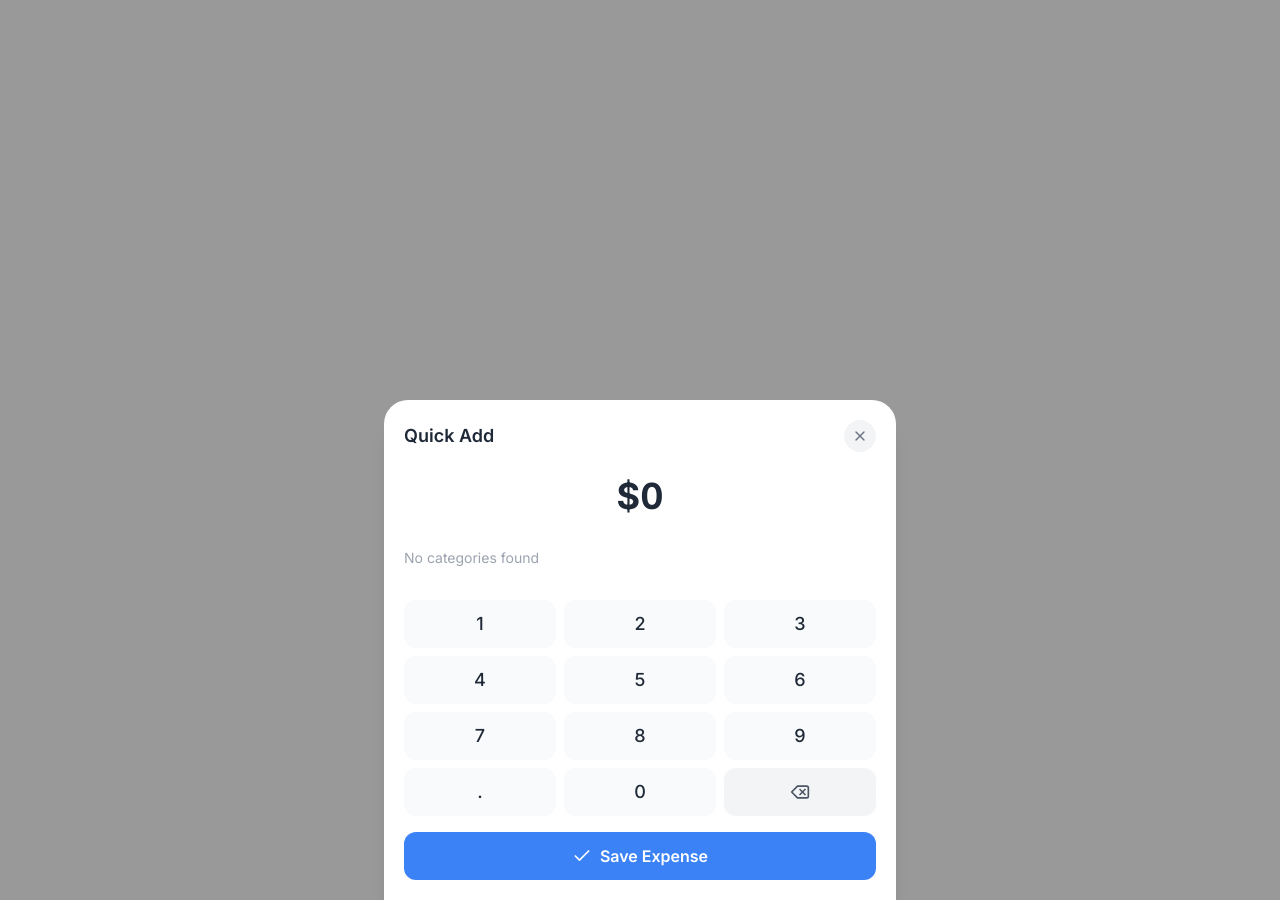
QuickAddModal › handles decimal input correctly
The image size is (1280, 900).
What coordinates should you click on to do the following:
click the button "1"
I would click on:
 (480, 624)
Its box is [404,600,556,648].
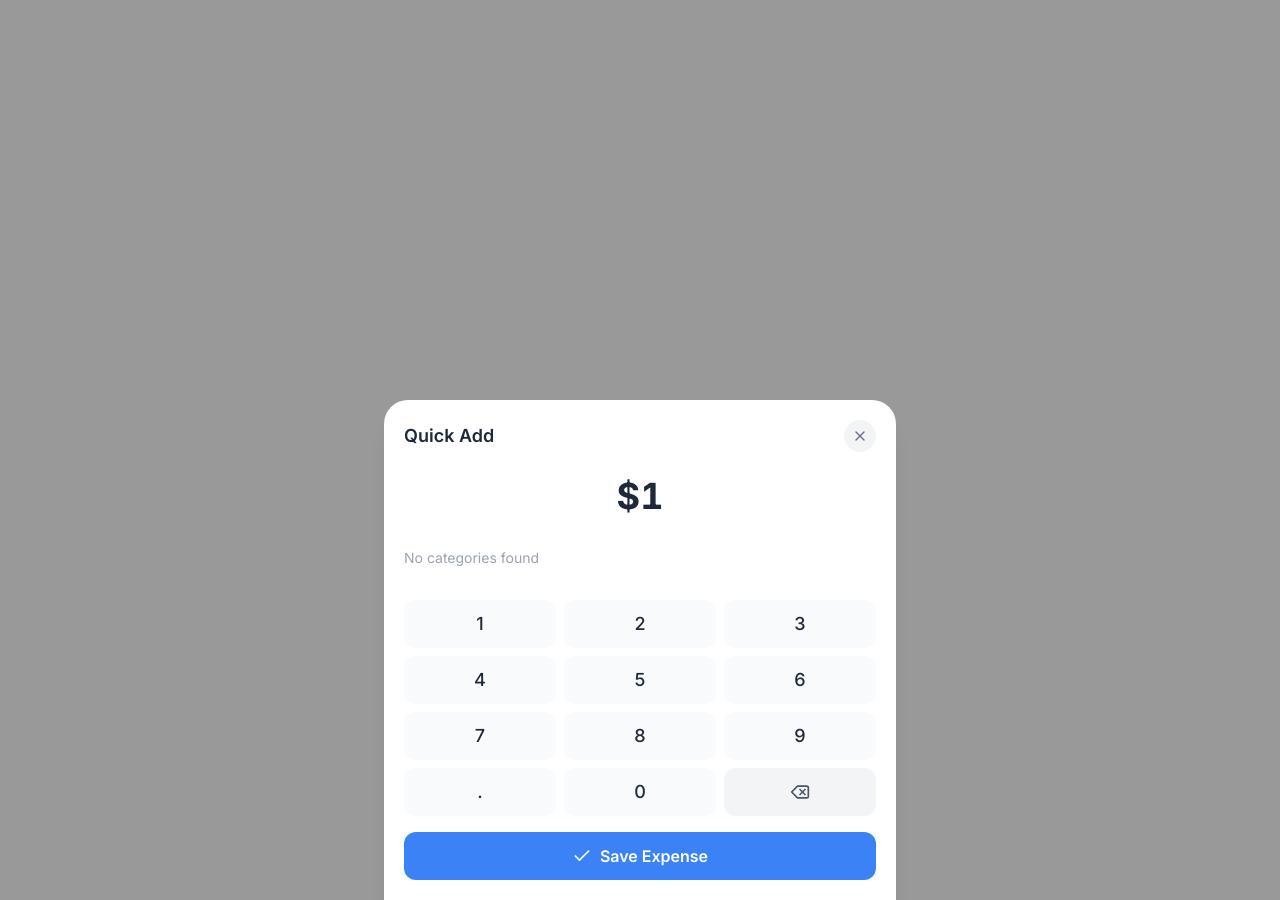
What coordinates should you click on to do the following:
click the button "2"
I would click on:
 (640, 624)
Its box is [564,600,716,648].
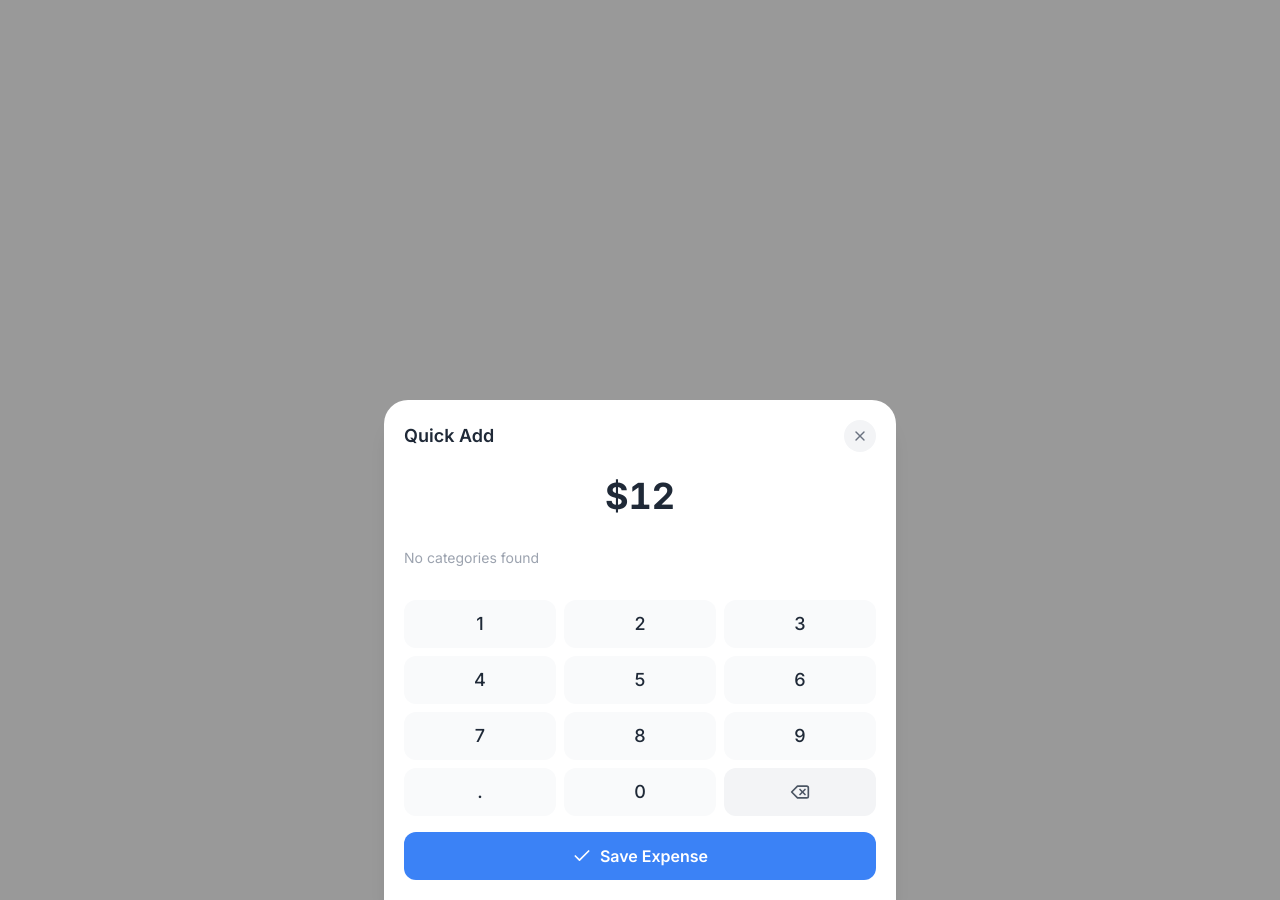
What coordinates should you click on to do the following:
click the button "."
I would click on:
 (480, 792)
Its box is [404,768,556,816].
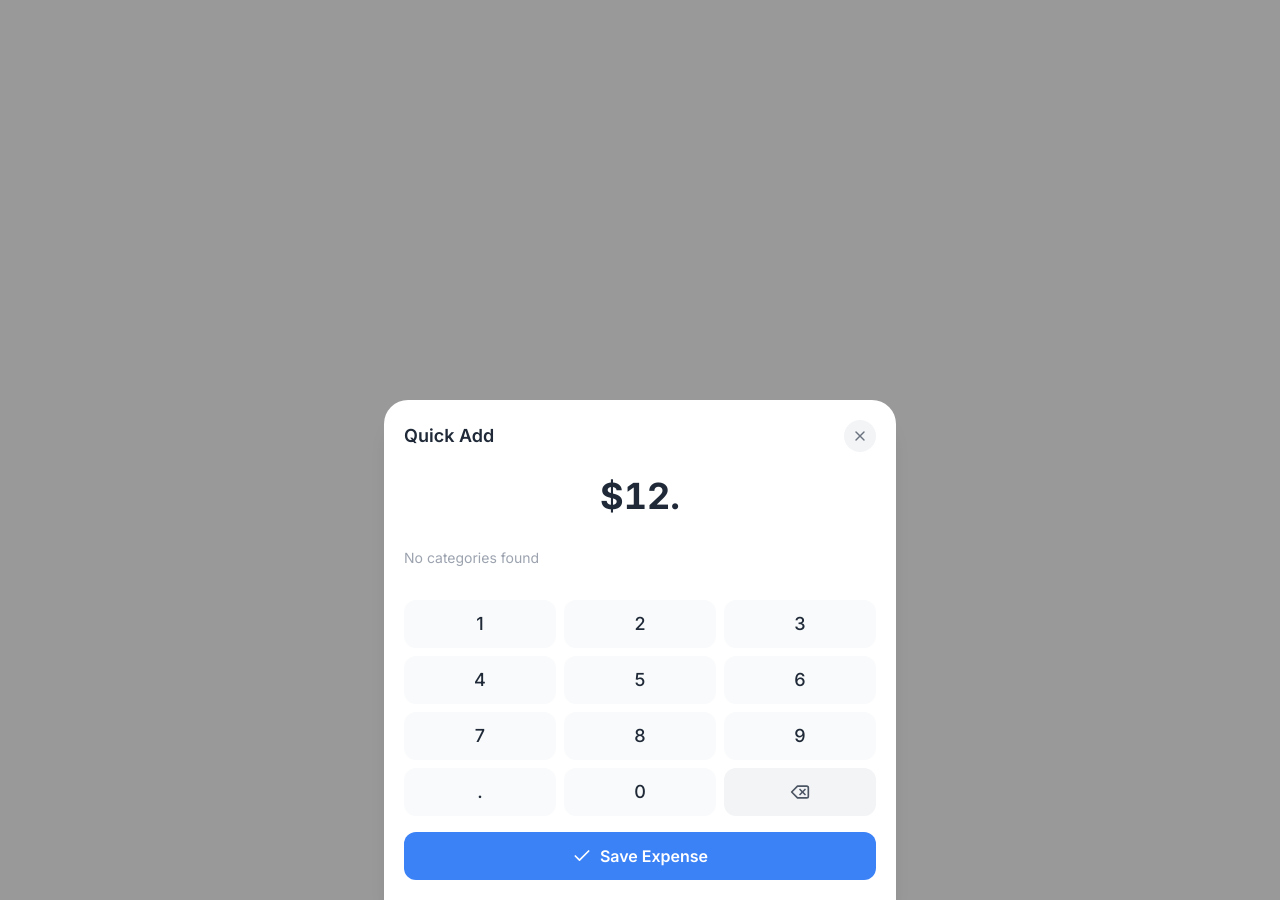
What coordinates should you click on to do the following:
click the button "5"
I would click on:
 (640, 680)
Its box is [564,656,716,704].
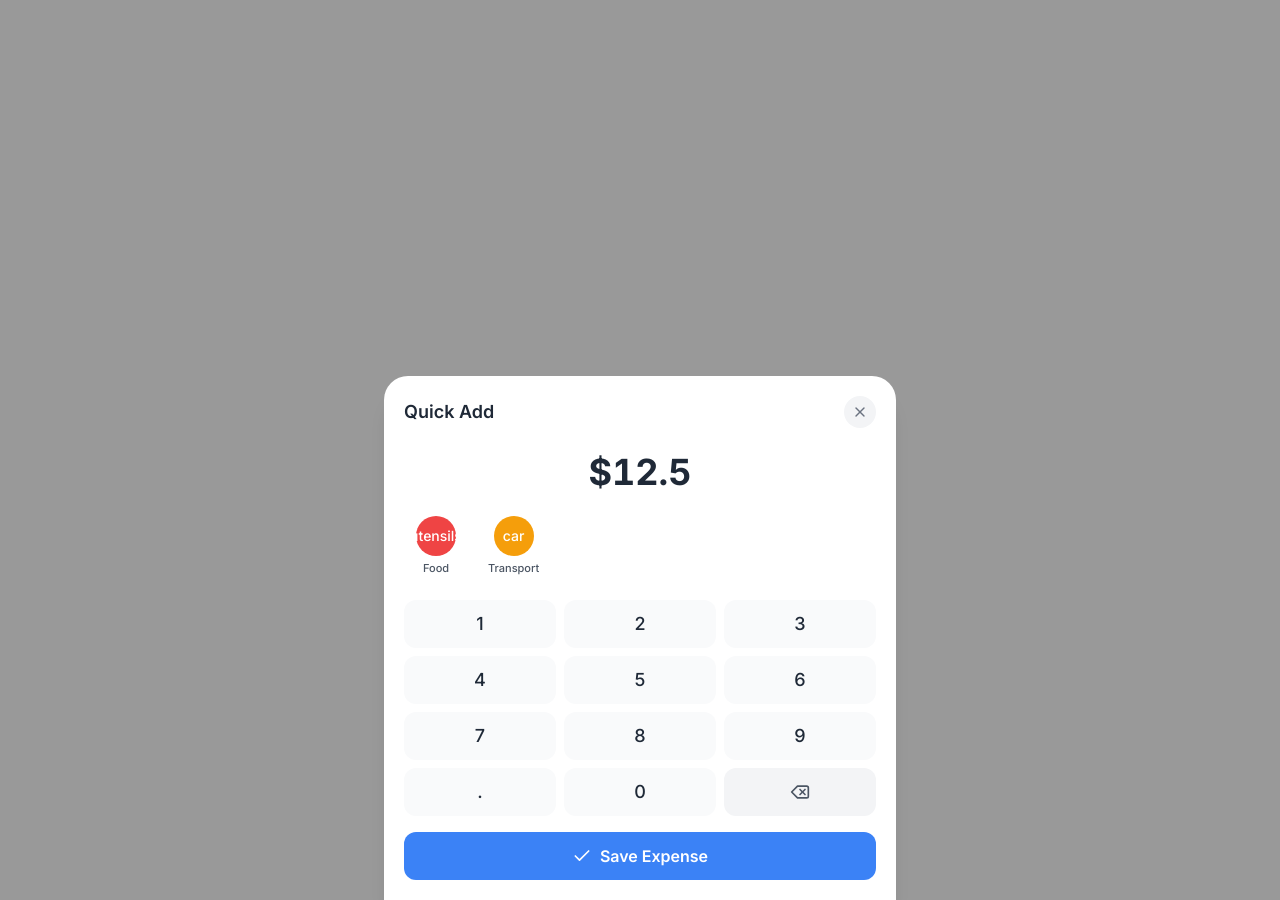
expect the text "$12.5" is shown: met, box [588,450,692,494]
